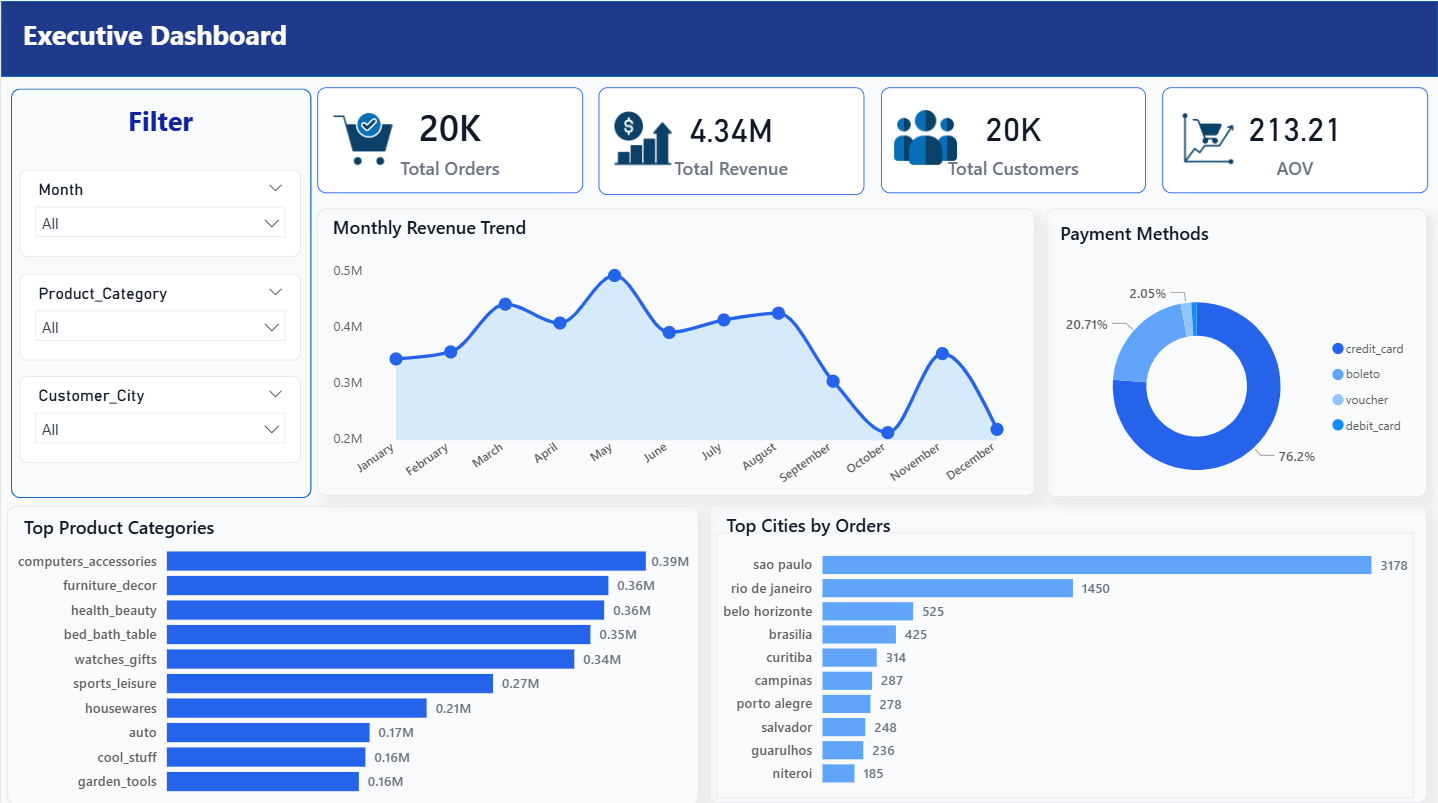

Layout of this report page (visuals, bound fields, positions):
{"tool":"powerbi","page":{"name":"Page 1","canvas":[1280,720],"ordinal":0},"visuals":[{"type":"shape","box":[8.5,77.5,267.6,364.8],"z":0},{"type":"card","fields":{"Values":["final_dataset.Total Orders"]},"box":[281.7,77.2,236.6,94.4],"z":1000},{"type":"card","fields":{"Values":["final_dataset.Total Customers"]},"box":[783.5,77.2,236,94.4],"z":2000},{"type":"card","fields":{"Values":["final_dataset.AOV"]},"box":[1033.8,77.2,236.6,94.4],"z":3000},{"type":"card","fields":{"Values":["final_dataset.Total Revenue"]},"box":[532.6,77.2,236.6,95.8],"z":4000},{"type":"shape","box":[0,0,1280.3,67.6],"z":5000},{"type":"textbox","box":[14.1,8.5,1256.3,46.5],"z":6000},{"type":"image","box":[281.7,94.4,81.7,56.3],"z":7000},{"type":"image","box":[1033.8,94.4,81.7,56.3],"z":8000},{"type":"image","box":[531,94.4,81.7,54.9],"z":9000},{"type":"image","box":[783.1,93,81.7,56.3],"z":10000},{"type":"slicer","fields":{"Values":["final_dataset.order_approved_at.Variation.Date Hierarchy.Month"]},"box":[16.4,150.7,250.7,77.5],"z":11000},{"type":"shape","box":[281.7,184.5,639.4,256.3],"z":12000},{"type":"areaChart","fields":{"Category":["final_dataset.order_month.Variation.Date Hierarchy.Month"],"Y":["final_dataset.Total Revenue"]},"box":[290.1,225.4,621.1,215.5],"z":13000},{"type":"textbox","box":[290.1,184.5,269,32.4],"z":14000},{"type":"shape","box":[931,184.5,339.4,256.6],"z":15000},{"type":"shape","box":[5.6,449.3,615.8,266.2],"z":16000},{"type":"barChart","fields":{"Category":["final_dataset.product_category_name_english"],"Y":["final_dataset.Total Revenue"]},"box":[8.5,469,609.6,249.3],"z":17000},{"type":"textbox","box":[15.5,452.1,269,32.4],"z":18000},{"type":"donutChart","fields":{"Category":["final_dataset.payment_type"],"Y":["final_dataset.Total Revenue"]},"box":[939.4,225.1,323.9,236.6],"z":19000},{"type":"shape","box":[629.6,447.9,640.3,266.2],"z":20000},{"type":"textbox","box":[938.9,189.9,269,32.4],"z":21000},{"type":"barChart","fields":{"Category":["final_dataset.customer_city"],"Y":["final_dataset.Total Orders"]},"box":[636.6,473.2,622.5,236.6],"z":22000},{"type":"textbox","box":[640.8,450.7,269,32.4],"z":23000},{"type":"slicer","fields":{"Values":["final_dataset.product_category_name_english"]},"box":[16.4,242.3,250.7,77.5],"z":24000},{"type":"slicer","fields":{"Values":["final_dataset.customer_city"]},"box":[16.4,333.8,250.7,77.5],"z":25000},{"type":"textbox","box":[16.9,85.9,250.7,49.3],"z":25001}]}

Visuals, with their boxes in screenshot pixels (x1, y1, x2, y2), scaled from the page's 1280x720 canvas onto the 1438x803 screenshot:
shape: rect(10, 86, 310, 493)
card - final_dataset.Total Orders: rect(316, 86, 582, 191)
card - final_dataset.Total Customers: rect(880, 86, 1145, 191)
card - final_dataset.AOV: rect(1161, 86, 1427, 191)
card - final_dataset.Total Revenue: rect(598, 86, 864, 193)
shape: rect(0, 0, 1437, 75)
textbox: rect(16, 9, 1427, 61)
image: rect(316, 105, 408, 168)
image: rect(1161, 105, 1253, 168)
image: rect(597, 105, 688, 167)
image: rect(880, 104, 972, 167)
slicer - final_dataset.order_approved_at.Variation.Date Hierarchy.Month: rect(18, 168, 300, 255)
shape: rect(316, 206, 1035, 492)
areaChart - final_dataset.order_month.Variation.Date Hierarchy.Month x final_dataset.Total Revenue: rect(326, 251, 1024, 492)
textbox: rect(326, 206, 628, 242)
shape: rect(1046, 206, 1427, 492)
shape: rect(6, 501, 698, 798)
barChart - final_dataset.product_category_name_english x final_dataset.Total Revenue: rect(10, 523, 694, 801)
textbox: rect(17, 504, 320, 540)
donutChart - final_dataset.payment_type x final_dataset.Total Revenue: rect(1055, 251, 1419, 515)
shape: rect(707, 500, 1427, 796)
textbox: rect(1055, 212, 1357, 248)
barChart - final_dataset.customer_city x final_dataset.Total Orders: rect(715, 528, 1415, 792)
textbox: rect(720, 503, 1022, 539)
slicer - final_dataset.product_category_name_english: rect(18, 270, 300, 357)
slicer - final_dataset.customer_city: rect(18, 372, 300, 459)
textbox: rect(19, 96, 301, 151)
